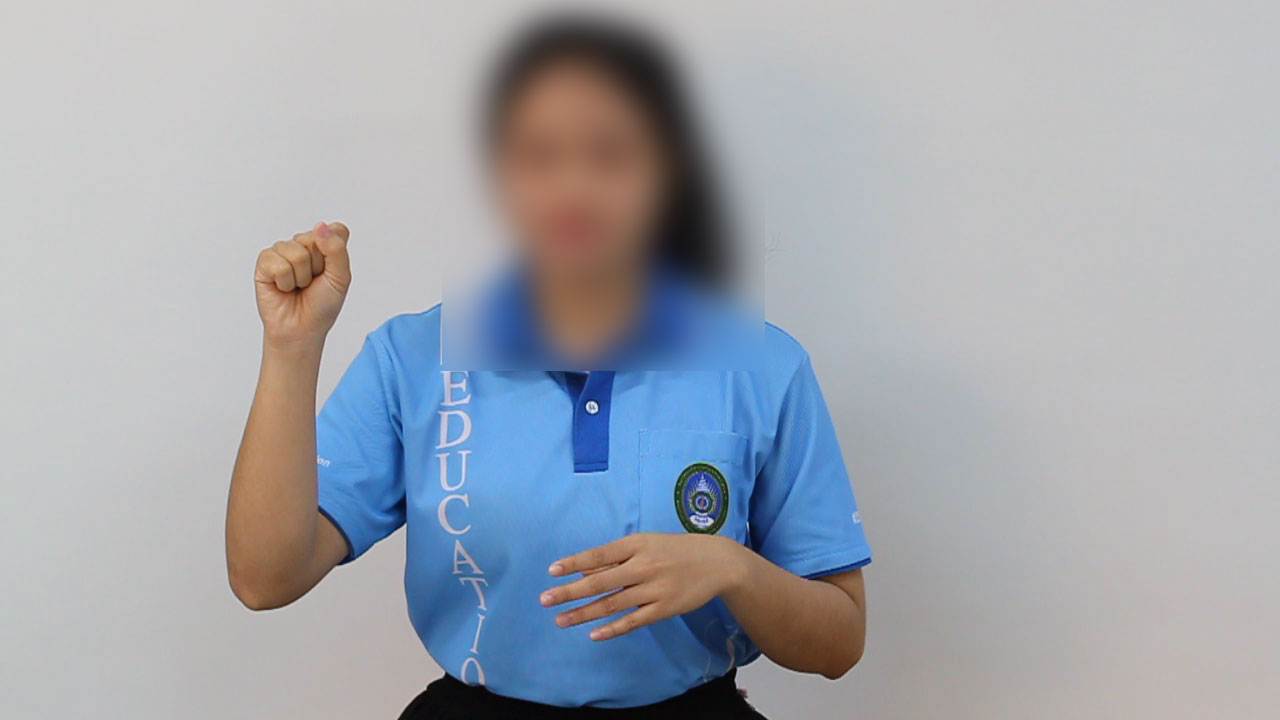sor: (241, 212, 366, 344)
